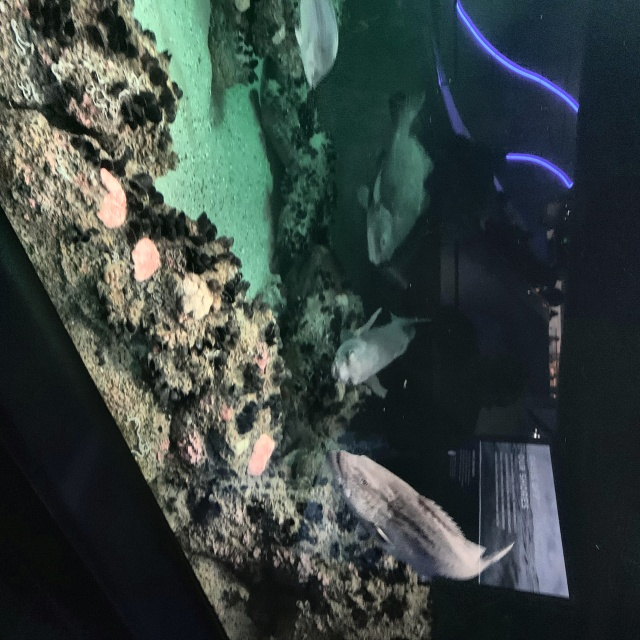fish: (327, 448, 516, 579), (359, 85, 436, 266), (330, 305, 433, 397), (289, 0, 347, 90)
